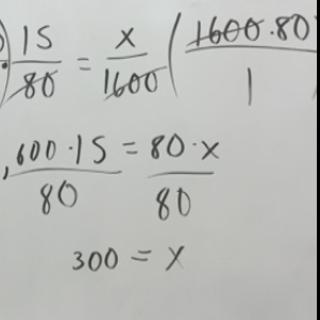.: (188, 139, 199, 151)
0: (288, 11, 310, 44), (57, 179, 78, 211), (164, 131, 187, 159), (175, 187, 193, 218), (224, 18, 241, 44), (104, 246, 121, 272), (144, 70, 160, 95), (42, 70, 54, 99), (45, 137, 58, 162), (87, 250, 101, 273), (246, 17, 259, 41), (28, 137, 40, 163), (128, 71, 140, 94)
1: (242, 65, 255, 107), (20, 23, 32, 59), (100, 67, 110, 97), (196, 18, 203, 46), (77, 133, 82, 166)
3: (72, 250, 84, 270)
5: (36, 25, 53, 51)
6: (206, 16, 224, 46), (112, 69, 127, 100), (13, 138, 27, 168)
8: (155, 186, 173, 223), (273, 13, 288, 43), (148, 133, 164, 160), (41, 181, 53, 214), (23, 70, 35, 98)
